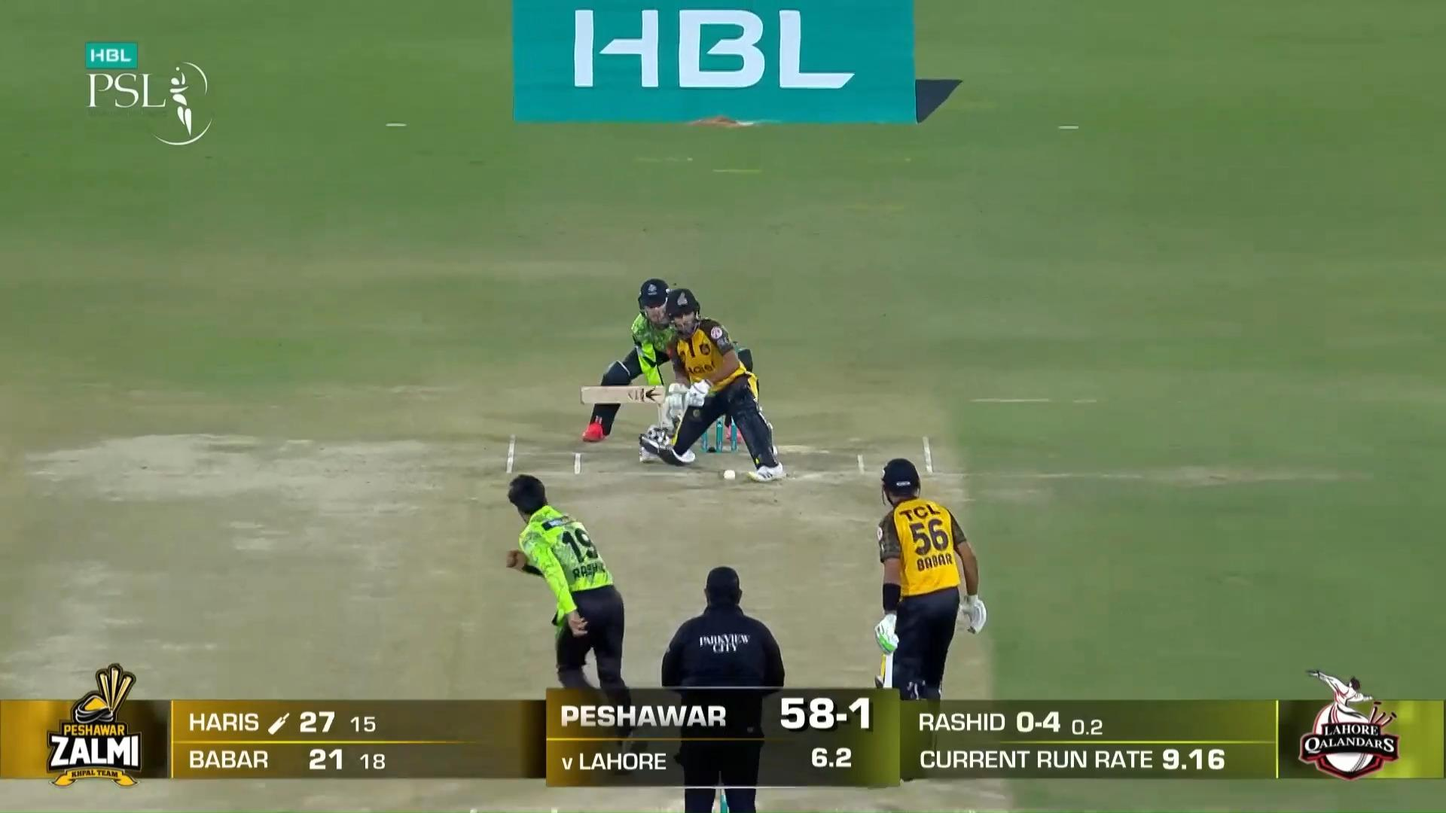batsman: (581, 287, 786, 482)
